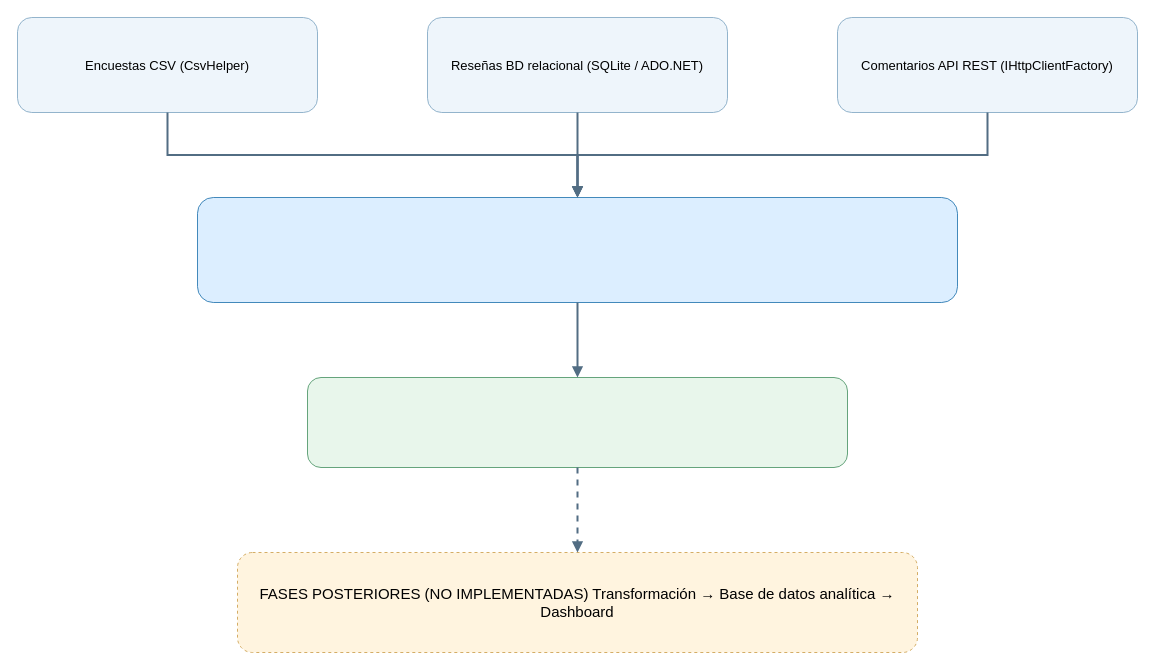
Image size: 1155x670. Some labels were removed from this diagram. Here are the shapes that lost their labels. From the top down, the box of each, then its label:
(196, 196, 958, 302): WORKER SERVICE .NET 8 IExtractor, extractores, ILogger, Task.WhenAll
(306, 376, 848, 468): STAGING: archivos JSONL por fuente + logs
